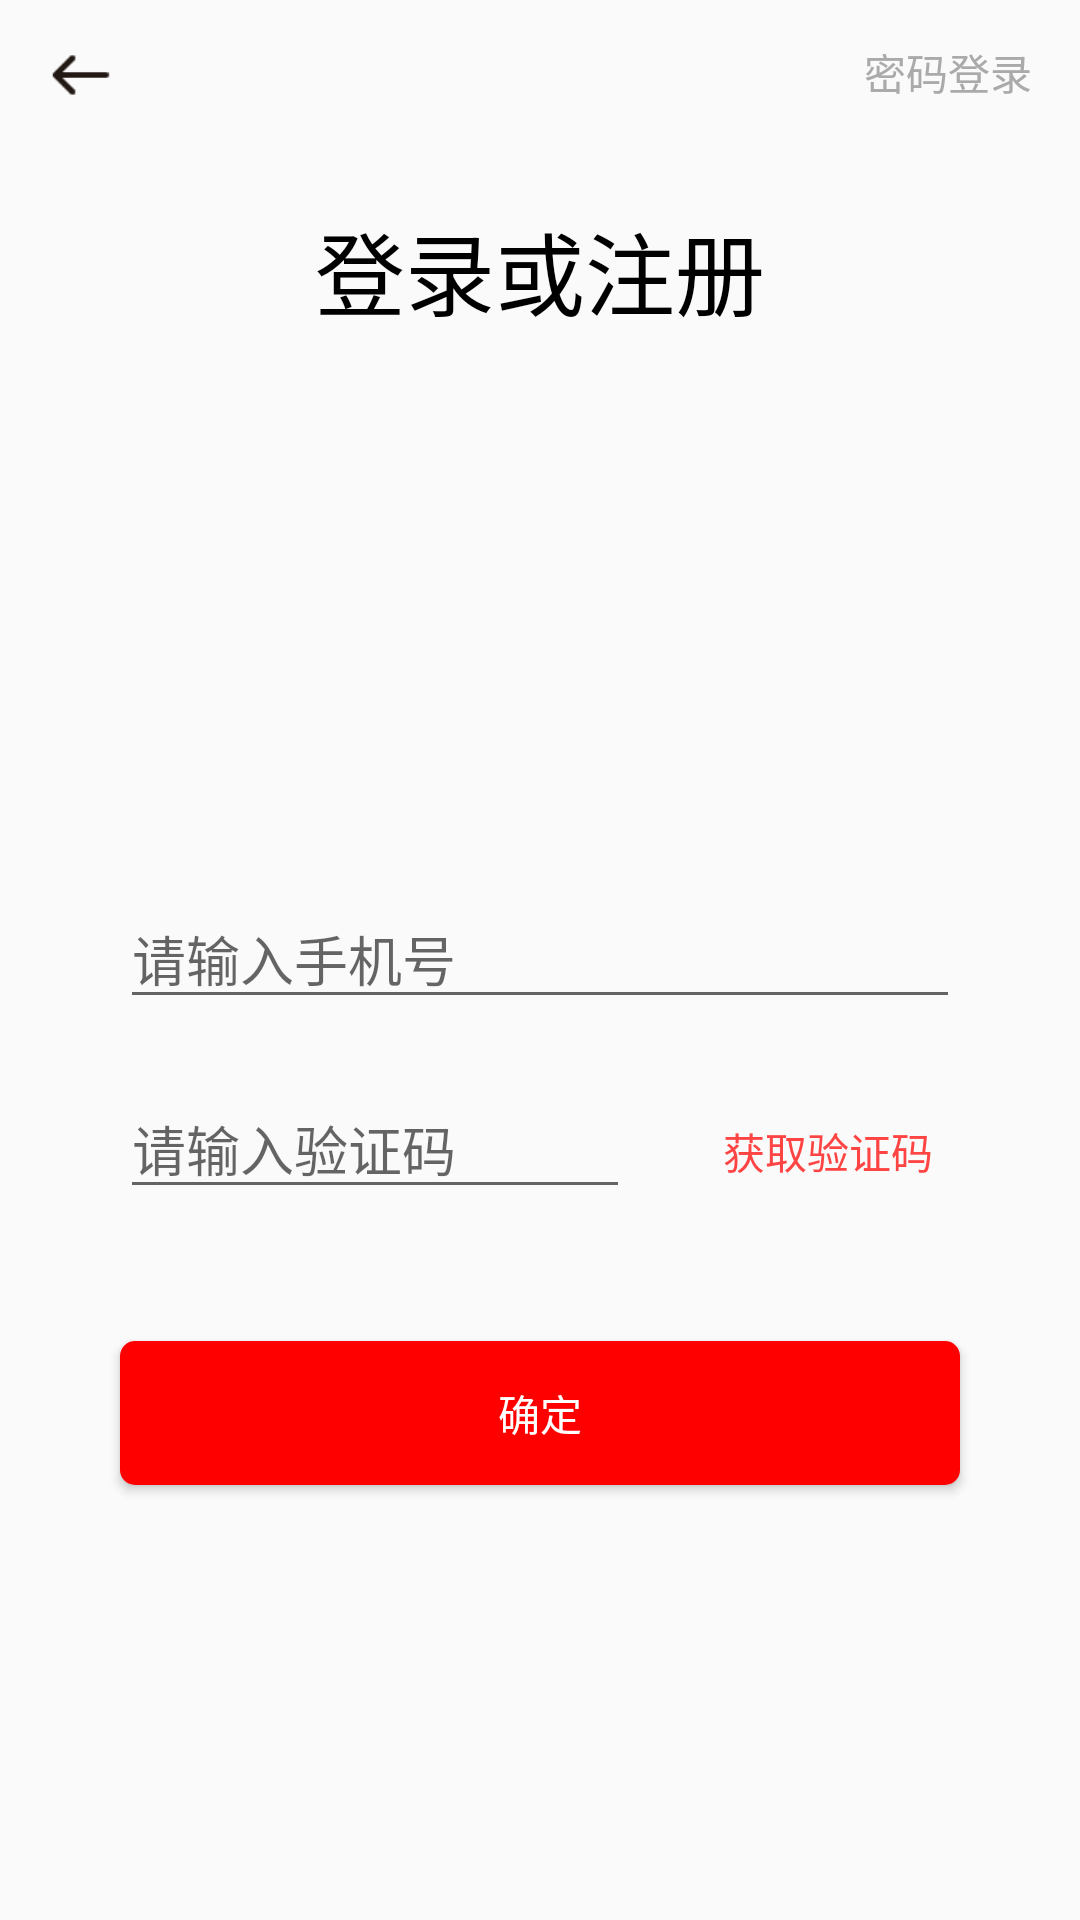

Icon bounding boxes for this 1080w x 1920h phone screenshot, format BBox(x1, y1, x2, y2):
arrow back: BBox(52, 55, 110, 95)
